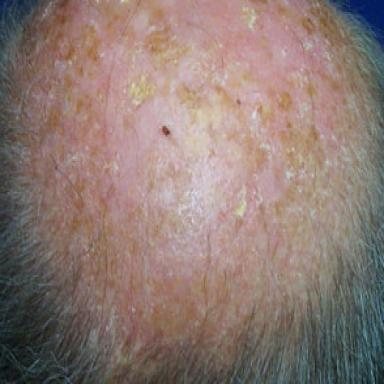eczema: (14, 2, 378, 347)
